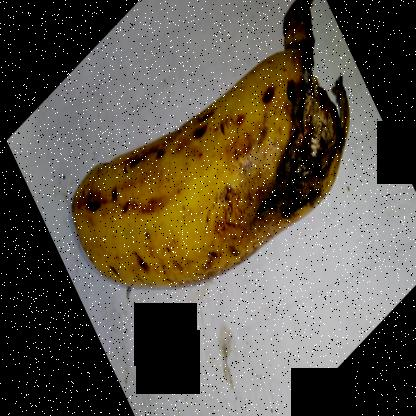ripe: (58, 82, 264, 305)
rotten: (240, 1, 354, 248)
